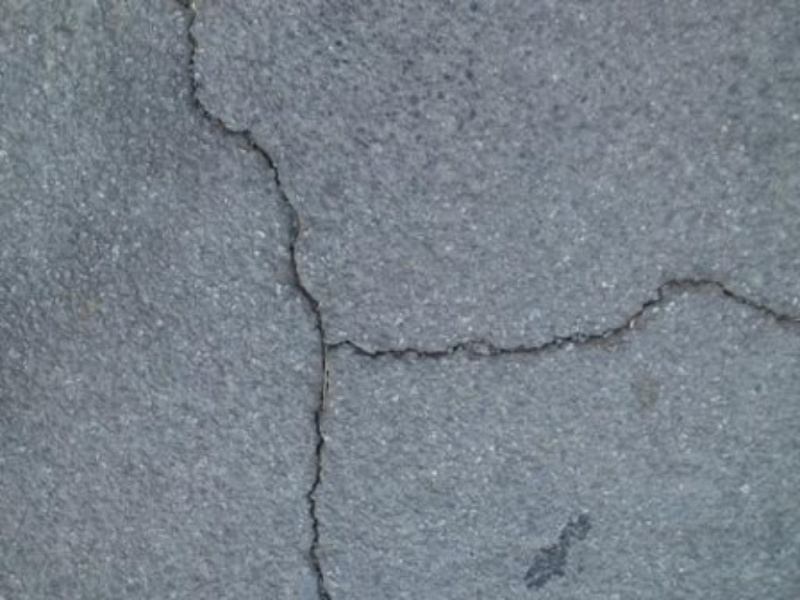crack: (160, 9, 380, 586), (318, 258, 796, 381)
